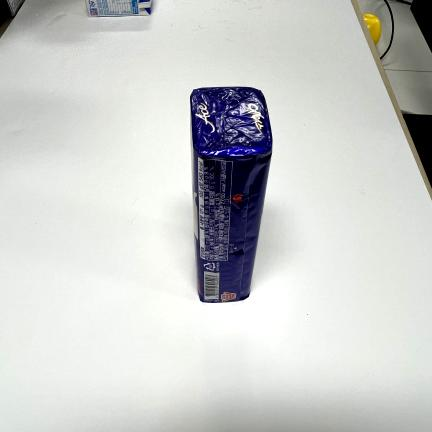cracker_ace: (191, 90, 273, 301)
